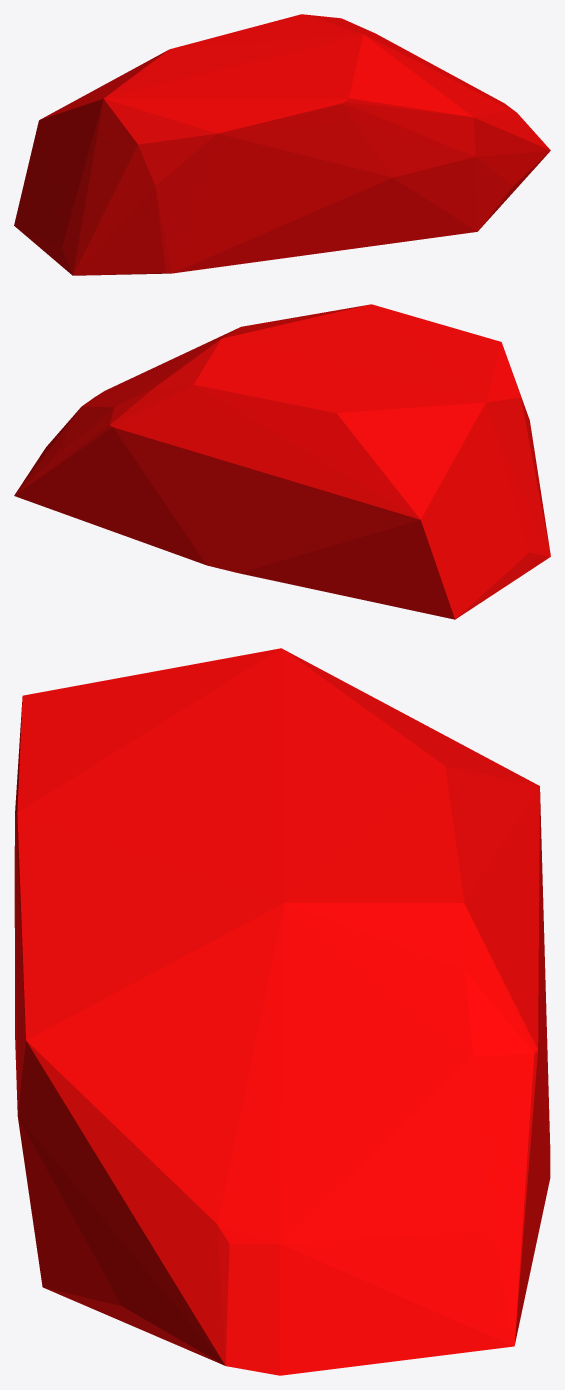
File: tip_006_1_convex_hull_03.obj
The picture shows the model from 3 angles, top to bottom: view 1: azimuth 30°, elevation 25°; view 2: azimuth 150°, elevation 25°; view 3: azimuth 270°, elevation 25°; orthographic projection. The views are drawn at different scales.
Visible parts, largest first — view 1: tip_006_1_convex_hull_03; view 2: tip_006_1_convex_hull_03; view 3: tip_006_1_convex_hull_03.
Part boxes in pixels (bbox=[...]): tip_006_1_convex_hull_03: bbox=[14, 14, 550, 275]; tip_006_1_convex_hull_03: bbox=[14, 304, 550, 619]; tip_006_1_convex_hull_03: bbox=[14, 648, 550, 1375].
Bounding box in the file's own units: 0.00413 × 0.0014 × 0.00198.
